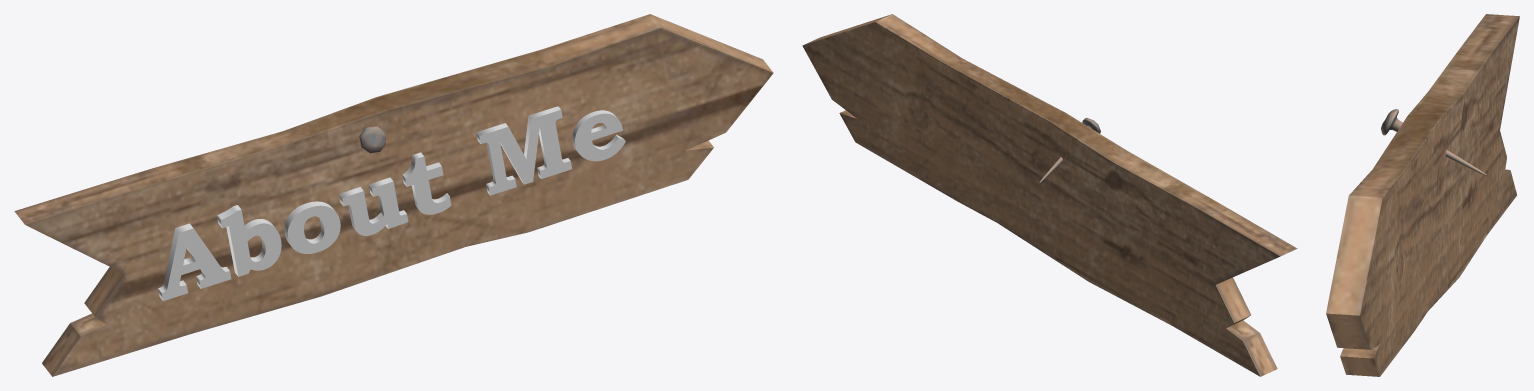
The model's file is sign_aboutMe.glb.
3 views of the same model, side by side, from view 1: azimuth 30°, elevation 25°; view 2: azimuth 150°, elevation 25°; view 3: azimuth 270°, elevation 25° (orthographic). The views are drawn at different scales.
Visible parts, largest first — view 1: defaultMaterial.036, Text.001; view 2: defaultMaterial.036; view 3: defaultMaterial.036, nail.002.
Boxes of the visible parts, x1,y1,x2,y2 form: defaultMaterial.036: [14, 14, 773, 376]; Text.001: [158, 106, 625, 301]; defaultMaterial.036: [802, 14, 1297, 376]; defaultMaterial.036: [1326, 14, 1519, 376]; nail.002: [1381, 109, 1486, 175].
Bounding box in the file's own units: 1.37 × 0.5096 × 0.3229.
2 materials, 2 textured.
